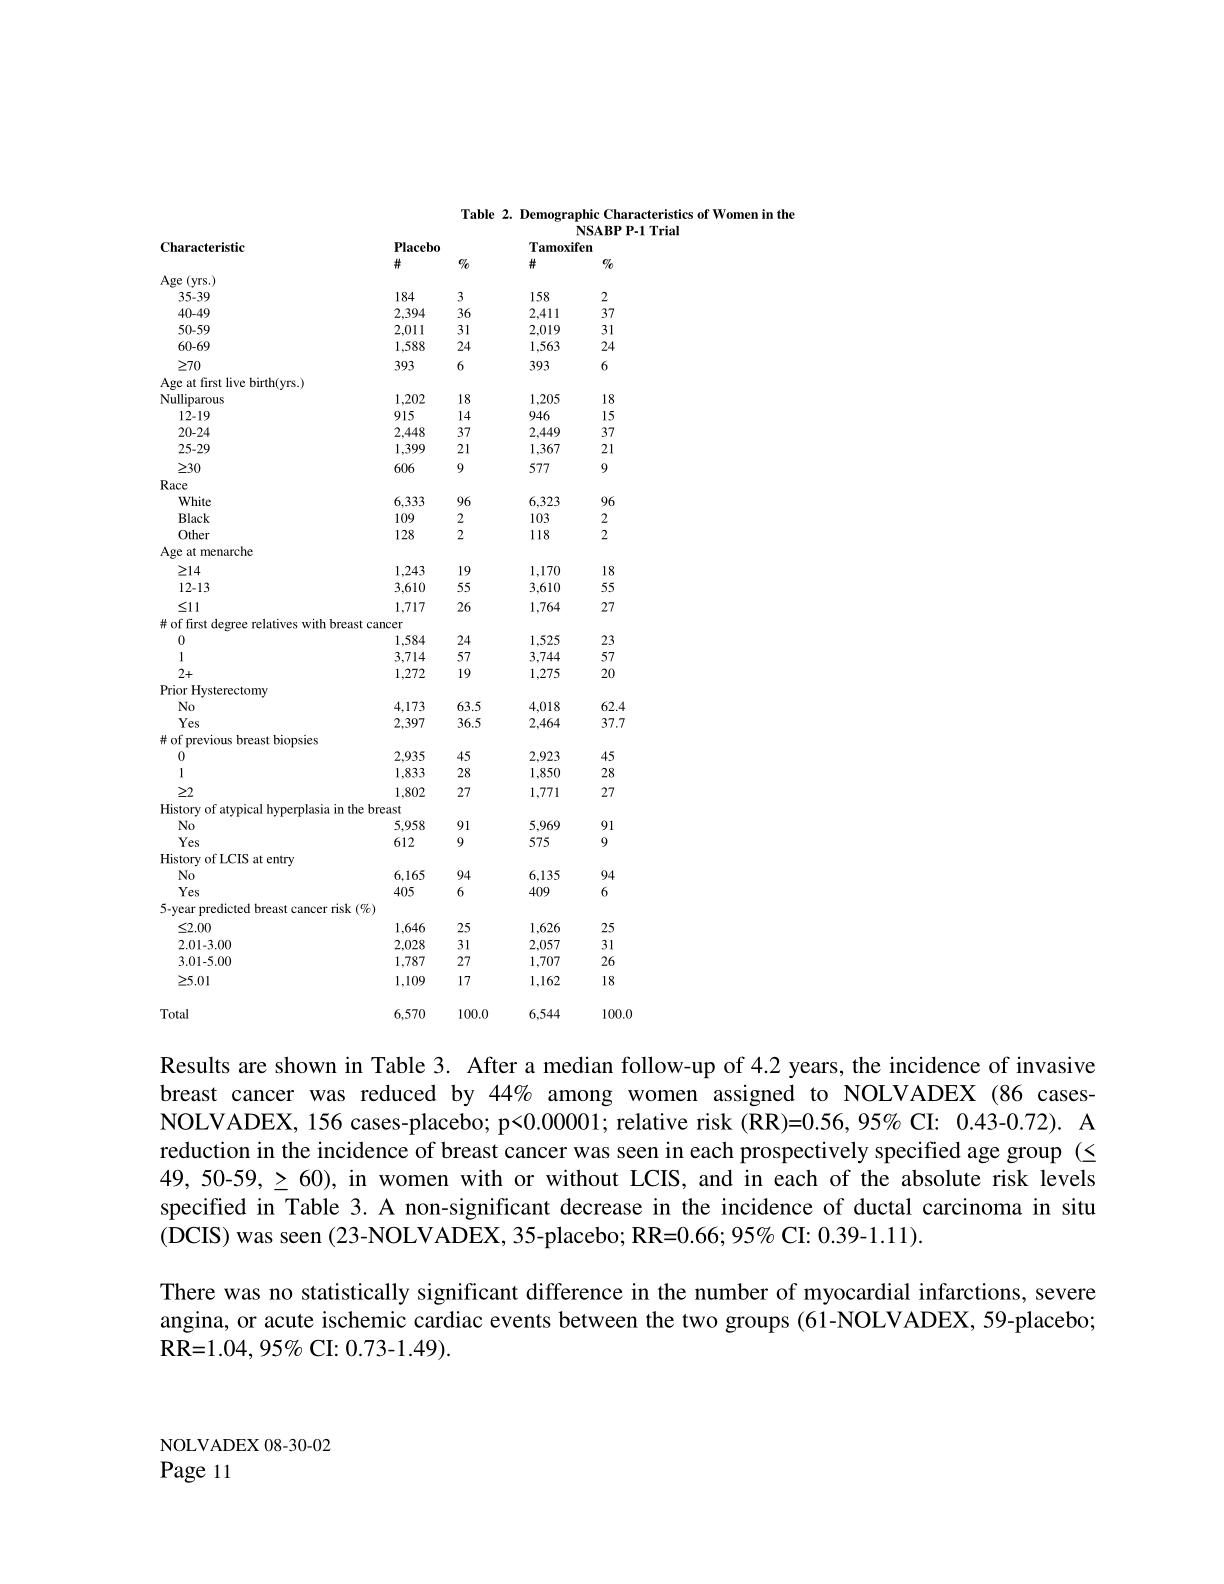nolines: (159, 237, 642, 1023)
